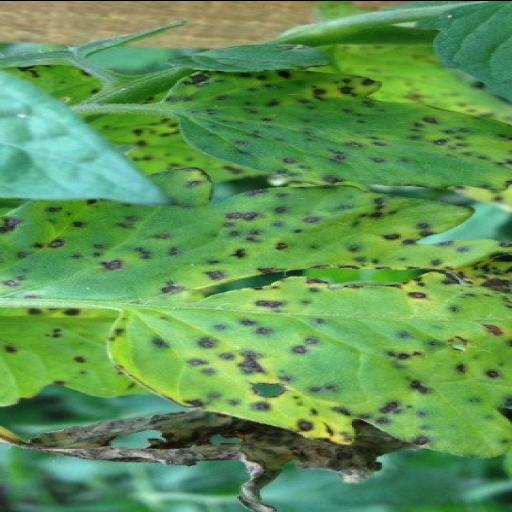Septoria: (0, 181, 512, 459), (148, 69, 512, 190)
